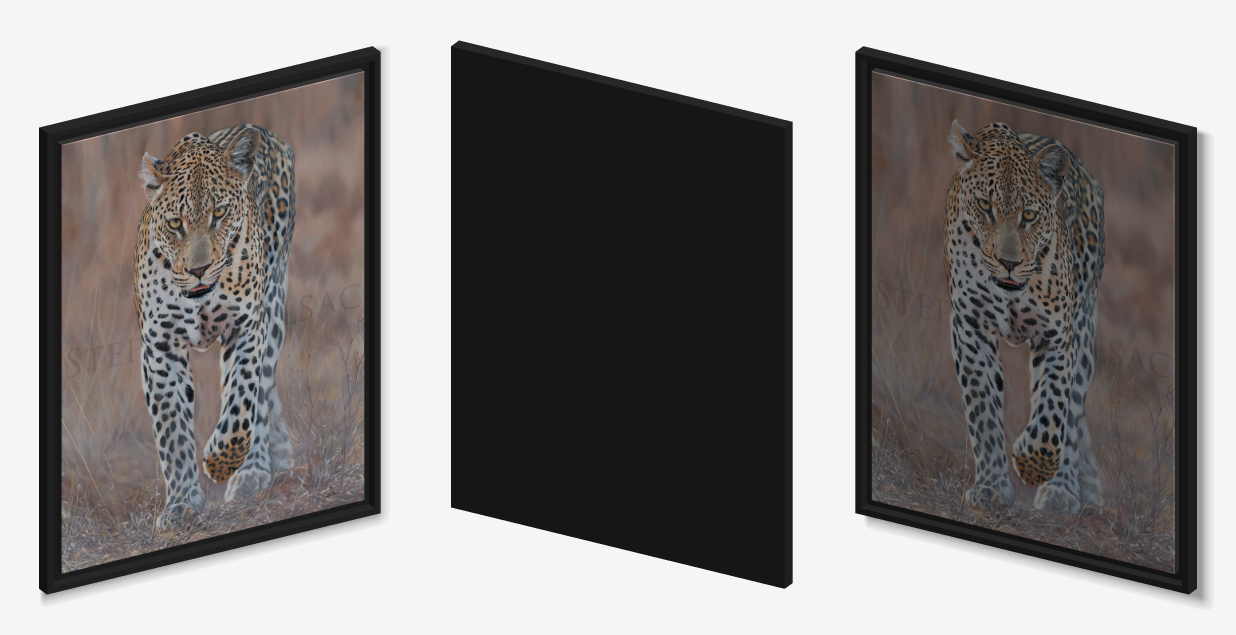
Rendered from tableau-leopard-le-chasseur-grand-585f5fa4.glb.
The picture shows the model from 3 angles, left to right: view 1: azimuth 30°, elevation 25°; view 2: azimuth 150°, elevation 25°; view 3: azimuth 330°, elevation 25°; orthographic projection.
Parts seen in each view (by area): view 1: Painting; view 2: Painting; view 3: Painting.
Boxes of the visible parts, x1,y1,x2,y2 form: Painting: (39,46,382,600); Painting: (451,40,792,588); Painting: (855,46,1206,603).
Bounding box in the file's own units: 1.08 × 1.38 × 0.04.
Materials: 5 (3 with a texture image).
